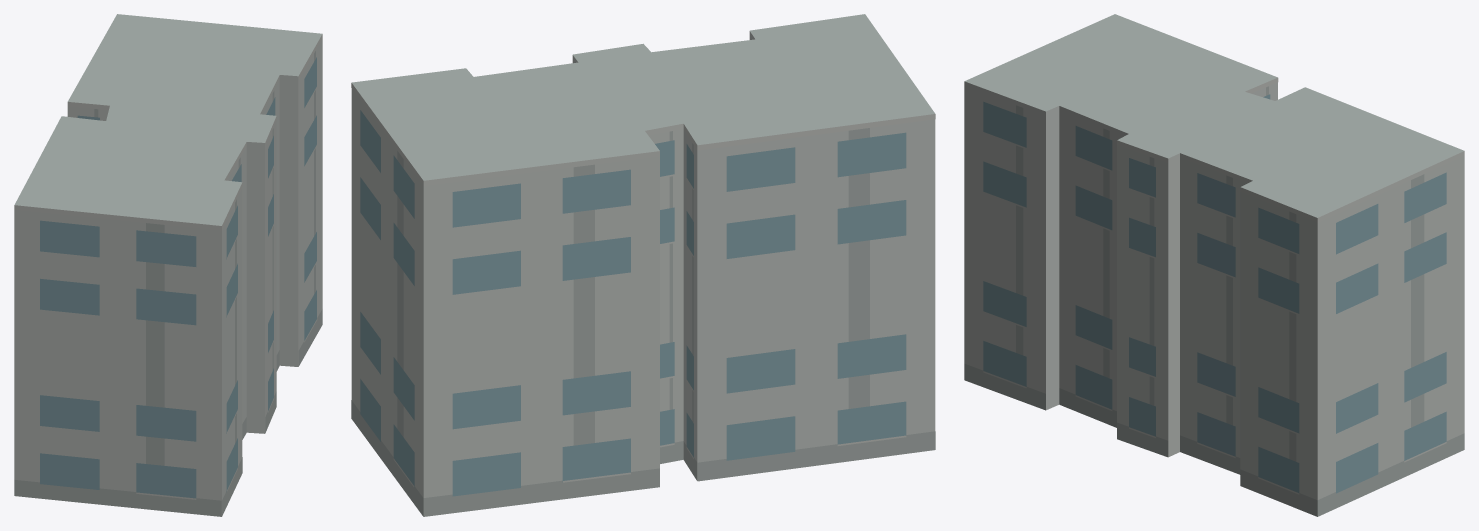
The model's file is survey-upis-32851006.glb.
3 renders of one model, left to right at view 1: azimuth 30°, elevation 25°; view 2: azimuth 150°, elevation 25°; view 3: azimuth 270°, elevation 25°, orthographic. The views are drawn at different scales.
Parts seen in each view (by area): view 1: survey-upis-32851006.tmp; view 2: survey-upis-32851006.tmp; view 3: survey-upis-32851006.tmp.
Part boxes in pixels (<box>): survey-upis-32851006.tmp: <box>14,14,322,516</box>; survey-upis-32851006.tmp: <box>351,14,935,516</box>; survey-upis-32851006.tmp: <box>964,14,1464,516</box>.
Size of the model in its own units: 22.33 by 15.25 by 23.14.
